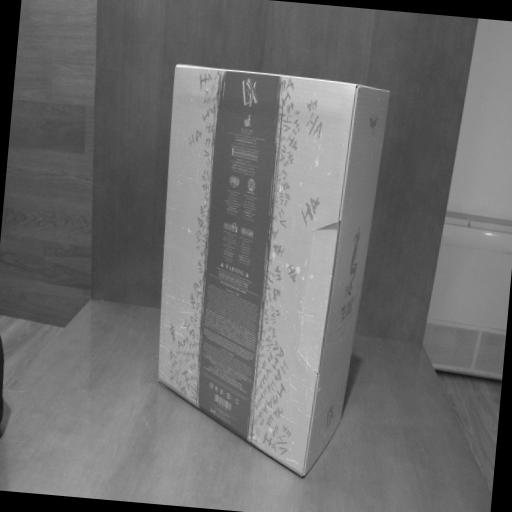Joker: (138, 61, 392, 482)
